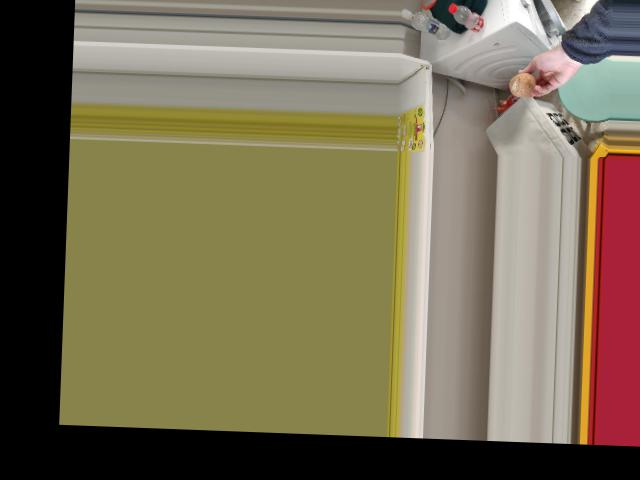sweet_potato: (510, 72, 539, 95)
